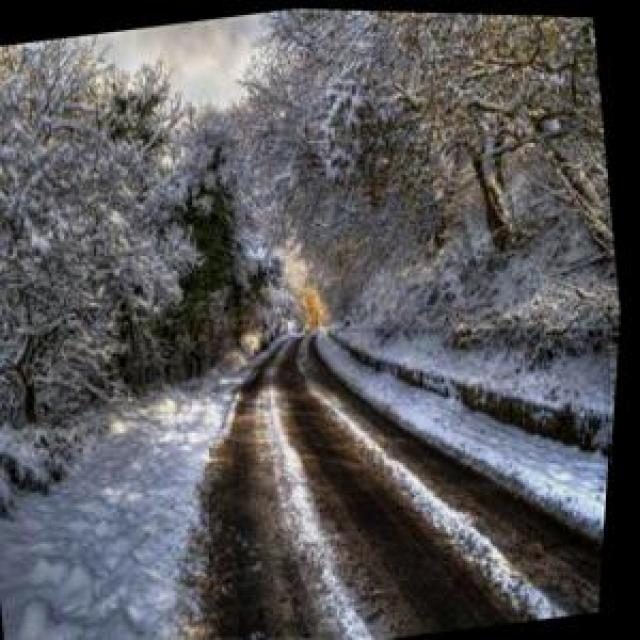clear-road: (211, 329, 610, 640)
